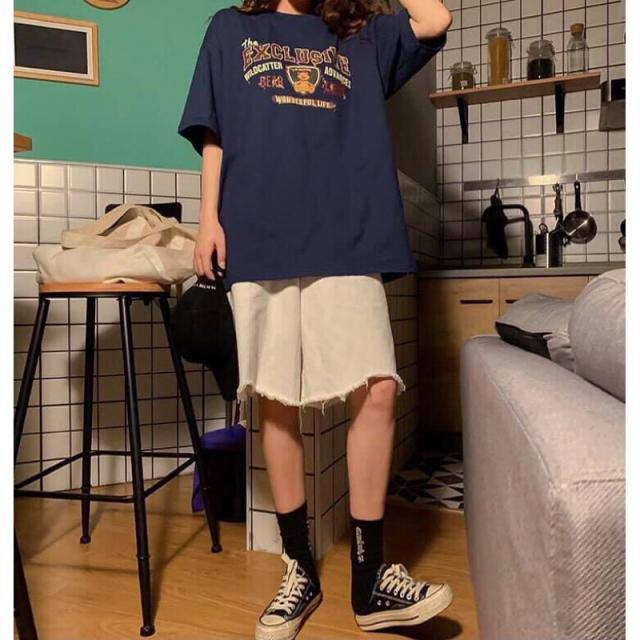Shirt: (180, 0, 430, 286)
